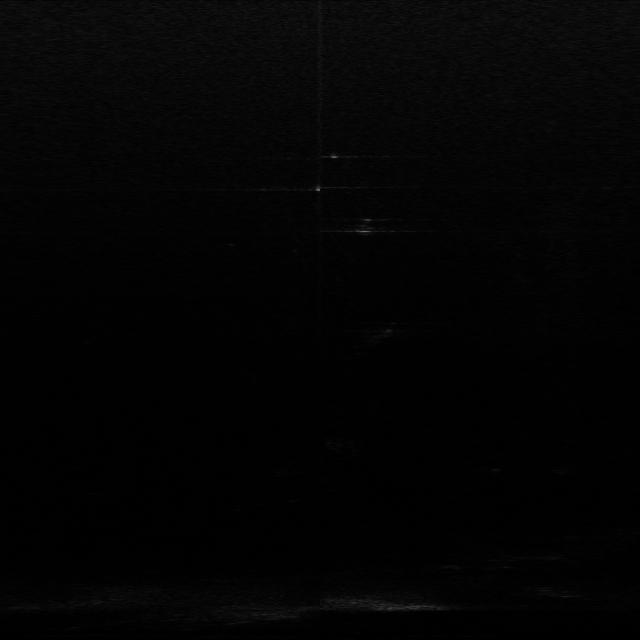rov: (350, 214, 380, 238)
